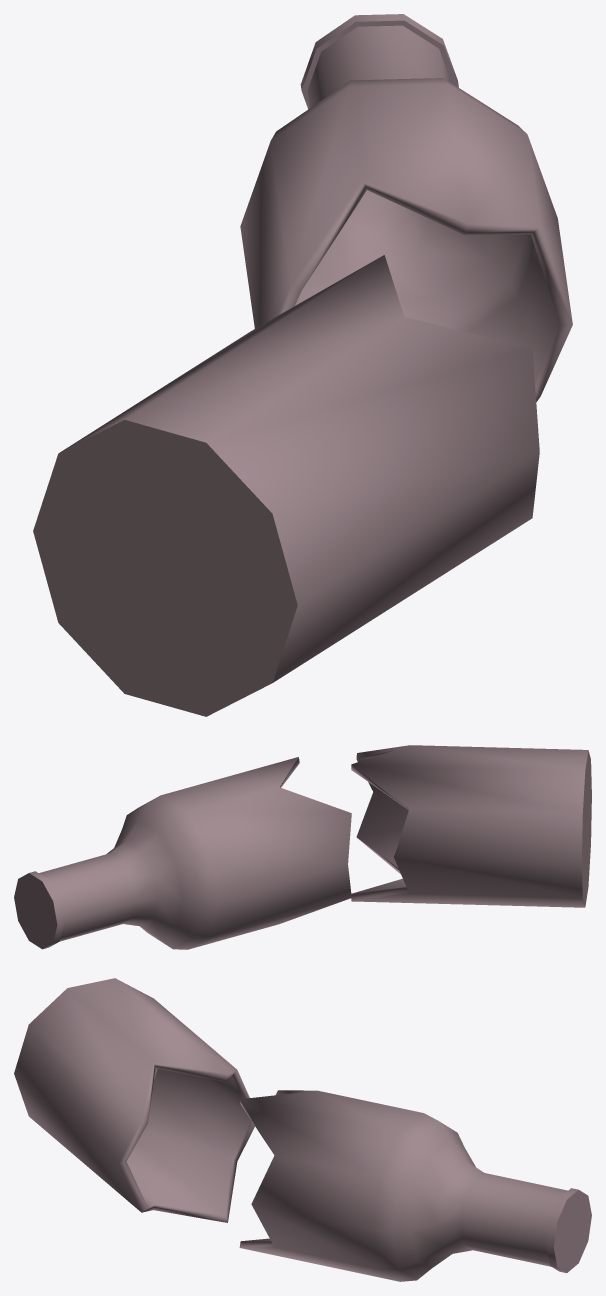
Rendered from botol.fbx.
The picture shows the model from 3 angles, top to bottom: view 1: azimuth 30°, elevation 25°; view 2: azimuth 150°, elevation 25°; view 3: azimuth 270°, elevation 25°; orthographic projection. The views are drawn at different scales.
Visible parts, largest first — view 1: trashes.007; view 2: trashes.007; view 3: trashes.007.
Boxes of the visible parts, x1,y1,x2,y2 form: trashes.007: (33, 14, 572, 716); trashes.007: (14, 745, 591, 949); trashes.007: (14, 978, 591, 1281).
Bounding box in the file's own units: 39.93 × 13.41 × 47.26.
